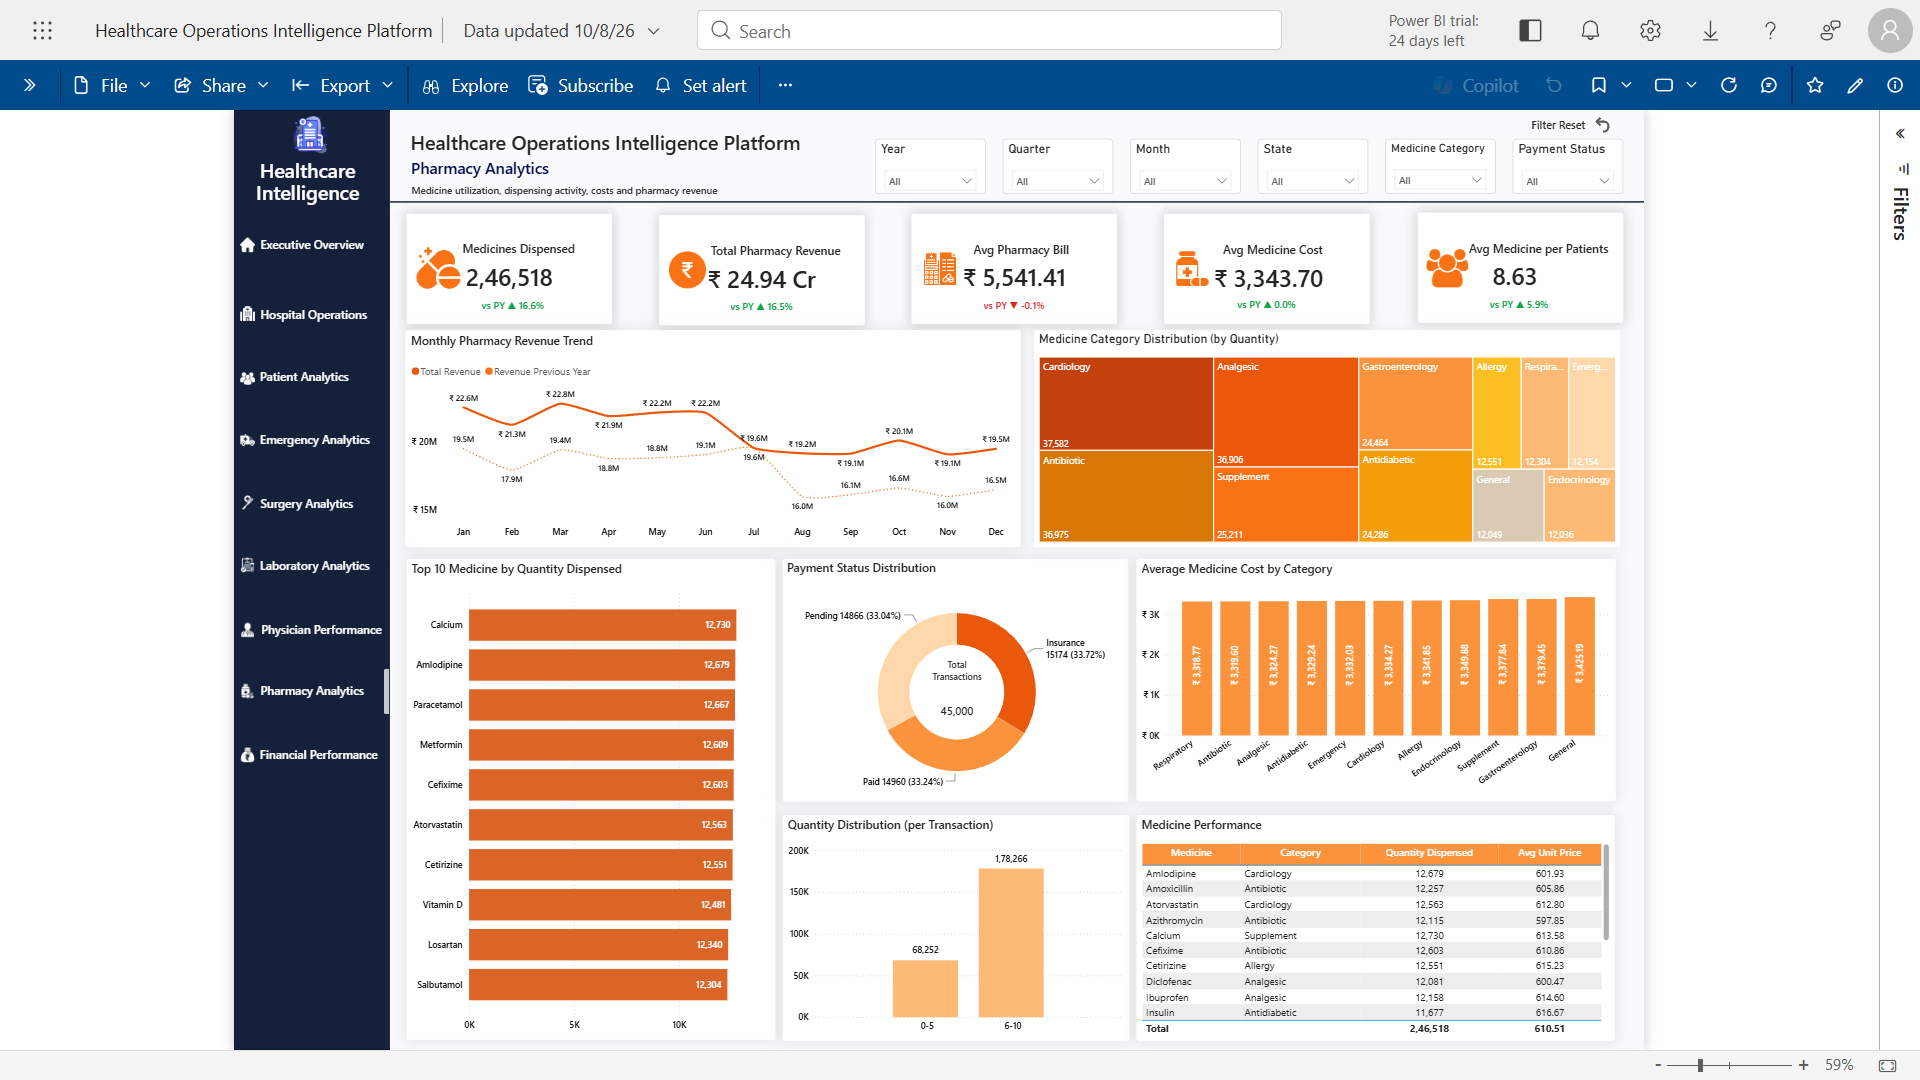

The page's visual inventory and layout, read from the dashboard file:
{"tool":"powerbi","page":{"name":"Pharmacy Analytics","canvas":[1920,1280],"ordinal":7},"visuals":[{"type":"shape","box":[0,0,212,1280],"z":0},{"type":"textbox","box":[3.3,59.1,200.8,46.2],"z":0,"group":"g1"},{"type":"cardVisual","title":"Total Revenue","fields":{"Data":["_Dax.Average Medicines per Patient"]},"box":[1611.3,140.2,280.3,150],"z":0,"group":"g4"},{"type":"cardVisual","title":"Total Revenue","fields":{"Data":["_Dax.Average Pharmacy Bill"]},"box":[922.9,140.6,280.3,150],"z":0,"group":"g2"},{"type":"cardVisual","title":"Total Revenue","fields":{"Data":["_Dax.Medicine Dispensed"]},"box":[234.4,140.9,280.3,150],"z":0,"group":"g5"},{"type":"cardVisual","title":"Total Revenue","fields":{"Data":["_Dax.Average Medicine Cost"]},"box":[1267.1,141.2,280.3,150],"z":0,"group":"g3"},{"type":"cardVisual","title":"Total Revenue","fields":{"Data":["_Dax.Total Pharmacy Revenue Display"]},"box":[578.6,142.2,280.3,150],"z":0,"group":"g6"},{"type":"donutChart","title":"Payment Status Distribution","fields":{"Y":["_Dax.Payment Status Insurance","_Dax.Payment Status Paid","_Dax.Payment Status Pending"]},"box":[747.9,610.7,470,331],"z":0,"group":"g7"},{"type":"actionButton","box":[1847.7,4.6,40,30],"z":1000},{"type":"textbox","box":[5,87.4,190.4,46.2],"z":1000,"group":"g1"},{"type":"image","box":[1280.8,180.5,50,71.5],"z":1000,"group":"g3"},{"type":"image","box":[592.3,181.5,50,71.5],"z":1000,"group":"g6"},{"type":"cardVisual","fields":{"Data":["_Dax.Medicine Dispensed Result vs PY"]},"box":[305,235.4,150,56],"z":1000,"group":"g5"},{"type":"cardVisual","fields":{"Data":["_Dax.Average Pharmacy Bill vs PY"]},"box":[987.6,235.7,150,56],"z":1000,"group":"g2"},{"type":"cardVisual","fields":{"Data":["_Dax.Medicine Per Patient vs PY"]},"box":[1674.5,236.2,150,56],"z":1000,"group":"g4"},{"type":"cardVisual","title":"Total Transactions","fields":{"Data":["_Dax.Total Pharmacy Trasaction"]},"box":[934,726,103.8,131.2],"z":1000,"group":"g7"},{"type":"textbox","box":[212,20,586,46],"z":2000},{"type":"image","box":[1623.2,177.7,56.7,76.7],"z":2000,"group":"g4"},{"type":"image","box":[247.3,177.8,60,73.3],"z":2000,"group":"g5"},{"type":"image","box":[936.6,179.9,50,71.5],"z":2000,"group":"g2"},{"type":"cardVisual","fields":{"Data":["_Dax.Average Medicine Cost vs PY"]},"box":[1331.4,234.1,150,56],"z":2000,"group":"g3"},{"type":"cardVisual","fields":{"Data":["_Dax.Pharmacy Revenue vs PY"]},"box":[643.8,237.2,150,56],"z":2000,"group":"g6"},{"type":"textbox","box":[1757.7,4.6,90,31.5],"z":3000},{"type":"textbox","box":[301.4,172.2,172.5,36.2],"z":3000,"group":"g5"},{"type":"textbox","box":[1670.9,172.4,210,38.8],"z":3000,"group":"g4"},{"type":"textbox","box":[989.3,173.5,166.2,33.8],"z":3000,"group":"g2"},{"type":"textbox","box":[1324.1,173.8,184.3,35.7],"z":3000,"group":"g3"},{"type":"textbox","box":[624.9,174.7,225.7,41.4],"z":3000,"group":"g6"},{"type":"textbox","box":[237,95.4,441.5,30],"z":4000},{"type":"textbox","box":[17.1,167.1,178.6,31.4],"z":5000},{"type":"textbox","box":[24.2,261.7,169.5,31.6],"z":6000},{"type":"textbox","box":[235,58.8,200,46.2],"z":7000},{"type":"group","id":"g1","title":"Health Care","box":[3.3,59.1,200.8,74.6],"z":8000},{"type":"image","box":[79,9.1,50,50],"z":9000},{"type":"slicer","title":"Quarter","fields":{"Values":["Dim_Date.Quarter"]},"box":[1046.4,39.3,150,75],"z":10000},{"type":"slicer","title":"Month","fields":{"Values":["Dim_Date.MonthName"]},"box":[1220.1,39.3,150,75],"z":11000},{"type":"slicer","title":"State","fields":{"Values":["Dim_Patient.State"]},"box":[1393.8,39.3,150,75],"z":12000},{"type":"slicer","title":"Medicine Category","fields":{"Values":["Fact_Pharmacy.MedicineCategory"]},"box":[1567.4,39.3,150,75],"z":13000},{"type":"shape","box":[212.1,119.3,1707.9,12],"z":14000},{"type":"textbox","box":[17,347.3,157.4,31.6],"z":15000},{"type":"textbox","box":[25.8,432.8,169.5,31.6],"z":16000},{"type":"textbox","box":[21,518.4,157.4,31.6],"z":17000},{"type":"textbox","box":[24,604,172.5,31.7],"z":18000},{"type":"textbox","box":[24.2,860.8,183.2,31.6],"z":19000},{"type":"textbox","box":[25,691.5,187,31.5],"z":20000},{"type":"textbox","box":[5,775.2,202.5,31.7],"z":21000},{"type":"group","id":"g2","title":"KPI 3","box":[922.9,140.6,280.3,151.1],"z":22000},{"type":"group","id":"g3","title":"KPI 4","box":[1267.1,141.2,280.3,150],"z":23000},{"type":"group","id":"g4","title":"KPI 5","box":[1611.3,140.2,280.3,152],"z":24000},{"type":"shape","box":[205,761.2,7.3,61.8],"z":25000},{"type":"image","box":[8.5,173,20,20],"z":26000},{"type":"image","box":[8.5,267.5,20,20],"z":27000},{"type":"image","box":[8.5,355,20,20],"z":28000},{"type":"image","box":[8.5,438,20,20],"z":29000},{"type":"image","box":[8.5,524,20,20],"z":30000},{"type":"image","box":[8,610,20,20],"z":31000},{"type":"image","box":[8,697.5,20,20],"z":32000},{"type":"image","box":[8,781,20,20],"z":33000},{"type":"image","box":[8,868,20,20],"z":34000},{"type":"slicer","title":"Payment Status","fields":{"Values":["Fact_Pharmacy.PaymentStatus"]},"box":[1741.1,39,150,75.6],"z":35000},{"type":"slicer","title":"Year","fields":{"Values":["Dim_Date.Year"]},"box":[872.7,39.3,150,75],"z":36000},{"type":"group","id":"g5","title":"KPI 3","box":[234.4,140.9,280.3,150.5],"z":37000},{"type":"group","id":"g6","title":"KPI 4","box":[578.6,142.2,280.3,151],"z":38000},{"type":"lineChart","title":"Monthly Pharmacy Revenue Trend","fields":{"Category":["Dim_Date.MonthShort"],"Y":["_Dax.Total Pharmacy Revenue","_Dax.Total  Pharmacy Revenue Previous Year"]},"box":[233.8,300,838.8,296.2],"z":39000},{"type":"barChart","title":"Top 10 Medicine by Quantity Dispensed","fields":{"Category":["Fact_Pharmacy.MedicineName"],"Y":["Sum(Fact_Pharmacy.Quantity)"]},"box":[234.1,611.8,502.3,655.2],"z":40000},{"type":"group","id":"g7","title":"Patient Distribution","box":[747.9,610.7,470,331],"z":41000},{"type":"treemap","title":"Medicine Category Distribution (by Quantity)","fields":{"Group":["Fact_Pharmacy.MedicineCategory"],"Values":["Sum(Fact_Pharmacy.Quantity)"]},"box":[1088.8,300,798.8,296.2],"z":42000},{"type":"columnChart","title":"Quantity Distribution (per Transaction)","fields":{"Category":["Fact_Pharmacy.Quantity Distribution"],"Y":["Sum(Fact_Pharmacy.Quantity)"]},"box":[747.8,959.2,472.1,307.8],"z":43000},{"type":"columnChart","title":"Average Medicine Cost by Category","fields":{"Category":["Fact_Pharmacy.MedicineCategory"],"Y":["_Dax.Average Medicine Cost"]},"box":[1228.8,611.3,652.5,330],"z":44000},{"type":"tableEx","title":"Medicine Performance","fields":{"Values":["Fact_Pharmacy.MedicineName","Fact_Pharmacy.MedicineCategory","Sum(Fact_Pharmacy.Quantity)","Avg(Fact_Pharmacy.UnitPrice)"]},"box":[1229.3,959.2,651.5,307.8],"z":45000}]}

Visuals, with their boxes on the page's 1920x1280 design canvas (x1, y1, x2, y2). These are canvas units, not pixel positions in the 1920x1080 screenshot, which may show the page scaled, cropped or inside an application window:
shape: (0,0,212,1280)
textbox: (3,59,204,105)
"Total Revenue" cardVisual: (1611,140,1892,290)
"Total Revenue" cardVisual: (923,141,1203,291)
"Total Revenue" cardVisual: (234,141,515,291)
"Total Revenue" cardVisual: (1267,141,1547,291)
"Total Revenue" cardVisual: (579,142,859,292)
"Payment Status Distribution" donutChart: (748,611,1218,942)
actionButton: (1848,5,1888,35)
textbox: (5,87,195,134)
image: (1281,180,1331,252)
image: (592,182,642,253)
cardVisual - _Dax.Medicine Dispensed Result vs PY: (305,235,455,291)
cardVisual - _Dax.Average Pharmacy Bill vs PY: (988,236,1138,292)
cardVisual - _Dax.Medicine Per Patient vs PY: (1674,236,1824,292)
"Total Transactions" cardVisual: (934,726,1038,857)
textbox: (212,20,798,66)
image: (1623,178,1680,254)
image: (247,178,307,251)
image: (937,180,987,251)
cardVisual - _Dax.Average Medicine Cost vs PY: (1331,234,1481,290)
cardVisual - _Dax.Pharmacy Revenue vs PY: (644,237,794,293)
textbox: (1758,5,1848,36)
textbox: (301,172,474,208)
textbox: (1671,172,1881,211)
textbox: (989,174,1156,207)
textbox: (1324,174,1508,210)
textbox: (625,175,851,216)
textbox: (237,95,678,125)
textbox: (17,167,196,198)
textbox: (24,262,194,293)
textbox: (235,59,435,105)
"Health Care" group: (3,59,204,134)
image: (79,9,129,59)
"Quarter" slicer: (1046,39,1196,114)
"Month" slicer: (1220,39,1370,114)
"State" slicer: (1394,39,1544,114)
"Medicine Category" slicer: (1567,39,1717,114)
shape: (212,119,1920,131)
textbox: (17,347,174,379)
textbox: (26,433,195,464)
textbox: (21,518,178,550)
textbox: (24,604,196,636)
textbox: (24,861,207,892)
textbox: (25,692,212,723)
textbox: (5,775,208,807)
"KPI 3" group: (923,141,1203,292)
"KPI 4" group: (1267,141,1547,291)
"KPI 5" group: (1611,140,1892,292)
shape: (205,761,212,823)
image: (8,173,28,193)
image: (8,268,28,288)
image: (8,355,28,375)
image: (8,438,28,458)
image: (8,524,28,544)
image: (8,610,28,630)
image: (8,698,28,718)
image: (8,781,28,801)
image: (8,868,28,888)
"Payment Status" slicer: (1741,39,1891,115)
"Year" slicer: (873,39,1023,114)
"KPI 3" group: (234,141,515,291)
"KPI 4" group: (579,142,859,293)
"Monthly Pharmacy Revenue Trend" lineChart: (234,300,1073,596)
"Top 10 Medicine by Quantity Dispensed" barChart: (234,612,736,1267)
"Patient Distribution" group: (748,611,1218,942)
"Medicine Category Distribution (by Quantity)" treemap: (1089,300,1888,596)
"Quantity Distribution (per Transaction)" columnChart: (748,959,1220,1267)
"Average Medicine Cost by Category" columnChart: (1229,611,1881,941)
"Medicine Performance" tableEx: (1229,959,1881,1267)
